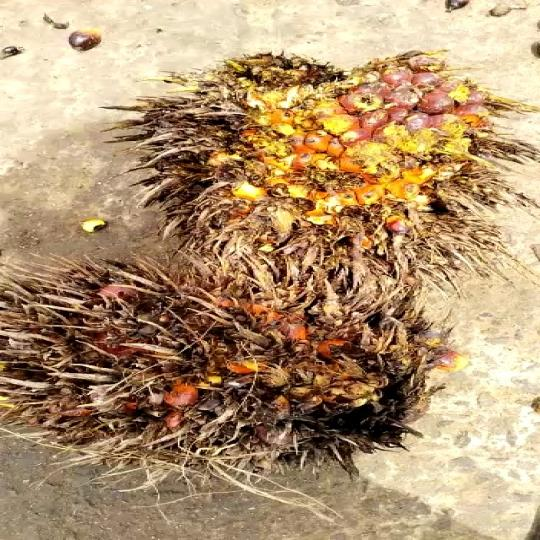terlalu masak: (0, 275, 475, 490), (105, 54, 513, 294)
